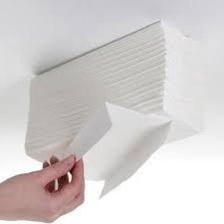tissue: (16, 14, 212, 204)
